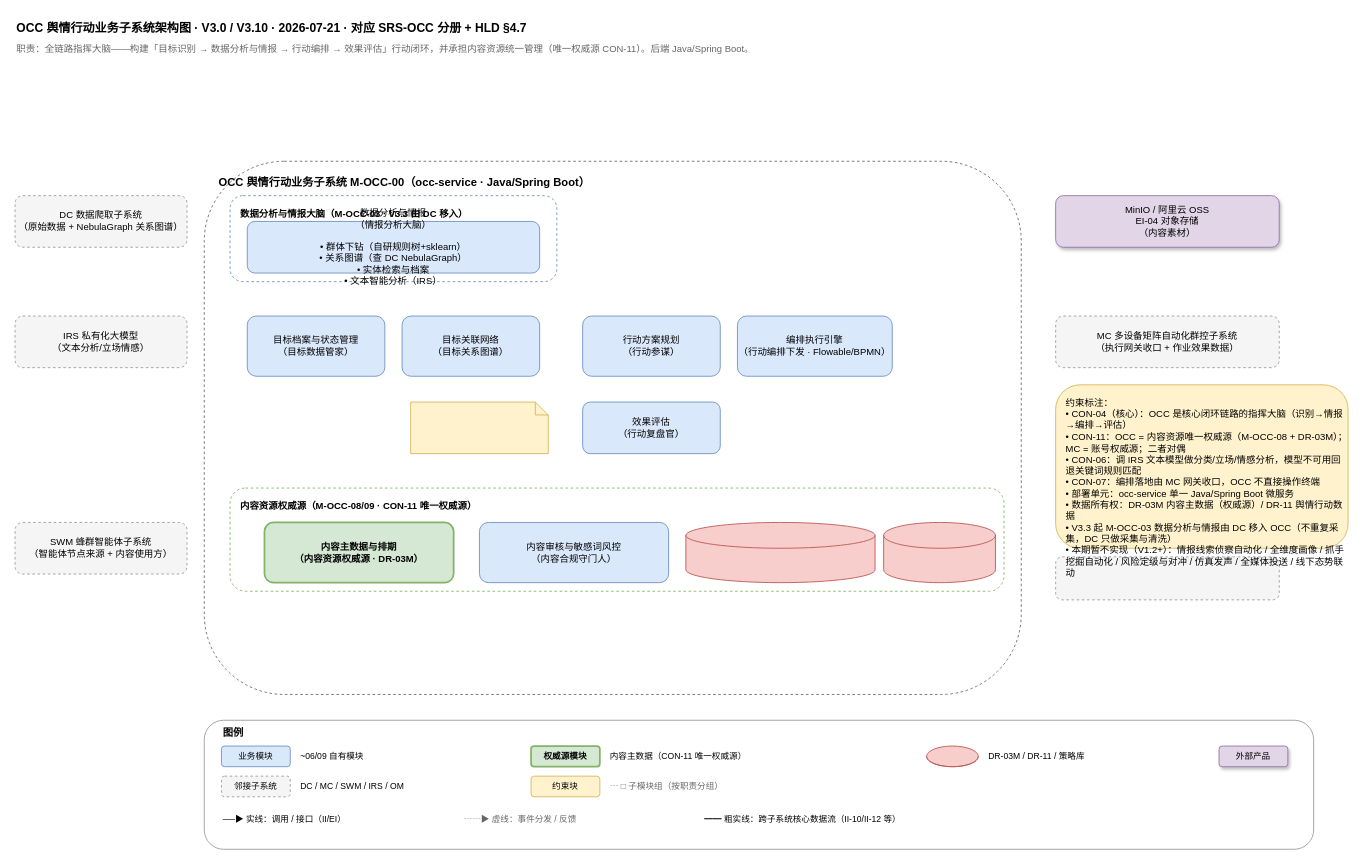
Image size: 1363x864. Some labels were removed from this diagram. The shapes that lost their labels are listed below. From the top down, each one's centre as x and y in pixels, then its label:
the point at 479,427: 舆论作业策略库 （策略资产库）
the point at 780,552: DR-11 舆情行动数据 目标/传播/画像/编排节点关系/ 策略库版本/评估记录
the point at 939,552: DR-03M 内容主数据 （素材/分类/审核/来源）
the point at 1167,578: OM 运维监控 （日志指标汇聚）
the point at 952,756: 数据
